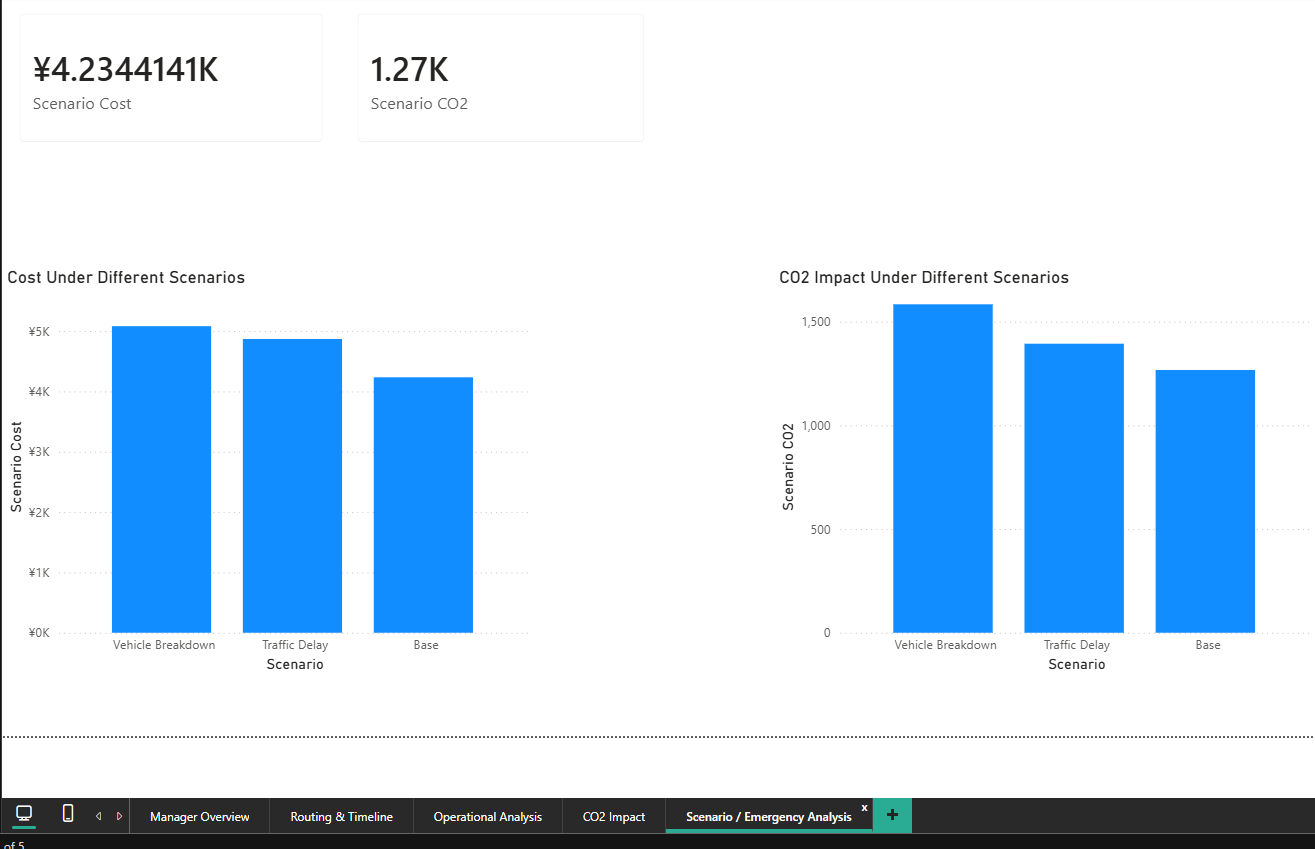

The page's visual inventory and layout, read from the dashboard file:
{"tool":"powerbi","page":{"name":"Scenario / Emergency Analysis","canvas":[1280,720],"ordinal":4},"visuals":[{"type":"clusteredColumnChart","title":"Cost Under Different Scenarios","fields":{"Category":["Scenario.Scenario"],"Y":["Input_Config.Scenario Cost"]},"box":[0,263.2,519.4,398.8],"z":0},{"type":"clusteredColumnChart","title":"CO2 Impact Under Different Scenarios","fields":{"Category":["Scenario.Scenario"],"Y":["Input_Config.Scenario CO2"]},"box":[750.7,263.2,529.3,398.8],"z":1},{"type":"cardVisual","fields":{"Data":["Input_Config.Scenario Cost"]},"box":[0,0,329.2,159.6],"z":2},{"type":"cardVisual","fields":{"Data":["Input_Config.Scenario CO2"]},"box":[329.2,0,313.6,159.6],"z":3}]}

Visuals, with their boxes on the page's 1280x720 design canvas (x1, y1, x2, y2). These are canvas units, not pixel positions in the 1315x849 screenshot, which may show the page scaled, cropped or inside an application window:
"Cost Under Different Scenarios" clusteredColumnChart: (0,263,519,662)
"CO2 Impact Under Different Scenarios" clusteredColumnChart: (751,263,1280,662)
cardVisual - Input_Config.Scenario Cost: (0,0,329,160)
cardVisual - Input_Config.Scenario CO2: (329,0,643,160)
